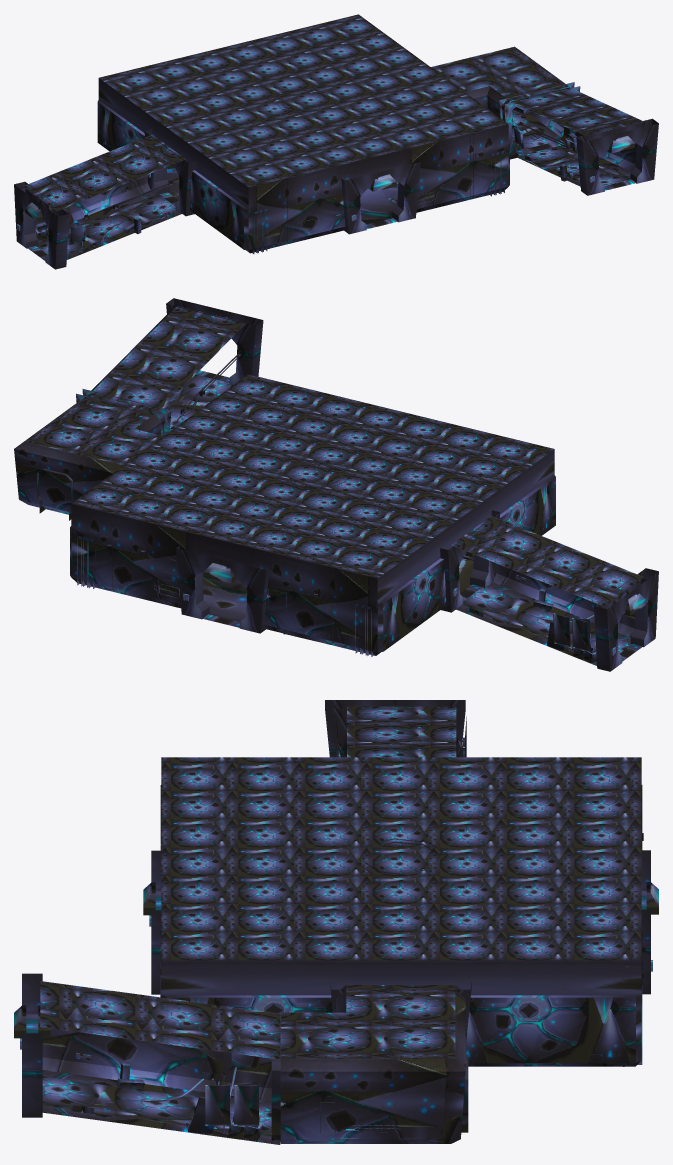
File: Combined_Mesh_root_scene__12_ac3e1c64__ZombiesII_laboratory_11_d_6be3923c_c1f257.obj
The picture shows the model from 3 angles, top to bottom: view 1: azimuth 30°, elevation 25°; view 2: azimuth 150°, elevation 25°; view 3: azimuth 270°, elevation 25°; orthographic projection. The views are drawn at different scales.
Size of the model in its own units: 78.61 by 13.91 by 53.73.
273 materials, 273 textured.
